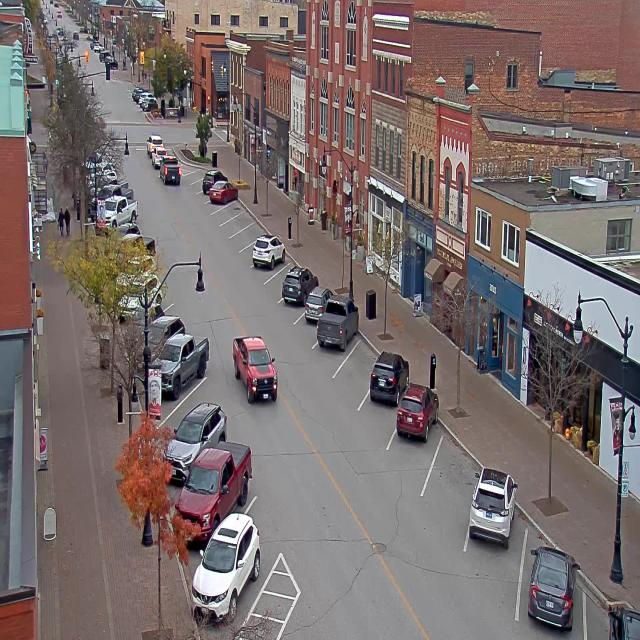available: (429, 430, 480, 512), (173, 355, 225, 420), (345, 332, 378, 387), (267, 262, 291, 294), (227, 228, 256, 250), (222, 216, 252, 237), (237, 241, 256, 269), (214, 202, 239, 222), (186, 168, 206, 182), (189, 178, 203, 195)
occupied: (192, 511, 260, 624), (186, 431, 257, 518), (164, 400, 228, 483), (526, 544, 579, 630), (468, 466, 517, 547), (152, 331, 209, 398), (394, 378, 436, 446), (588, 586, 639, 640), (316, 296, 358, 352), (368, 350, 409, 406), (282, 265, 318, 304), (252, 233, 285, 268), (303, 286, 329, 326), (209, 179, 237, 204), (200, 169, 218, 193)
